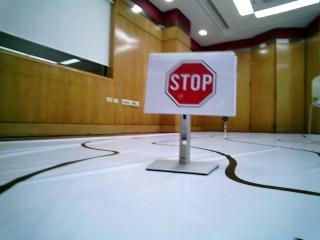stop: (151, 56, 226, 116)
